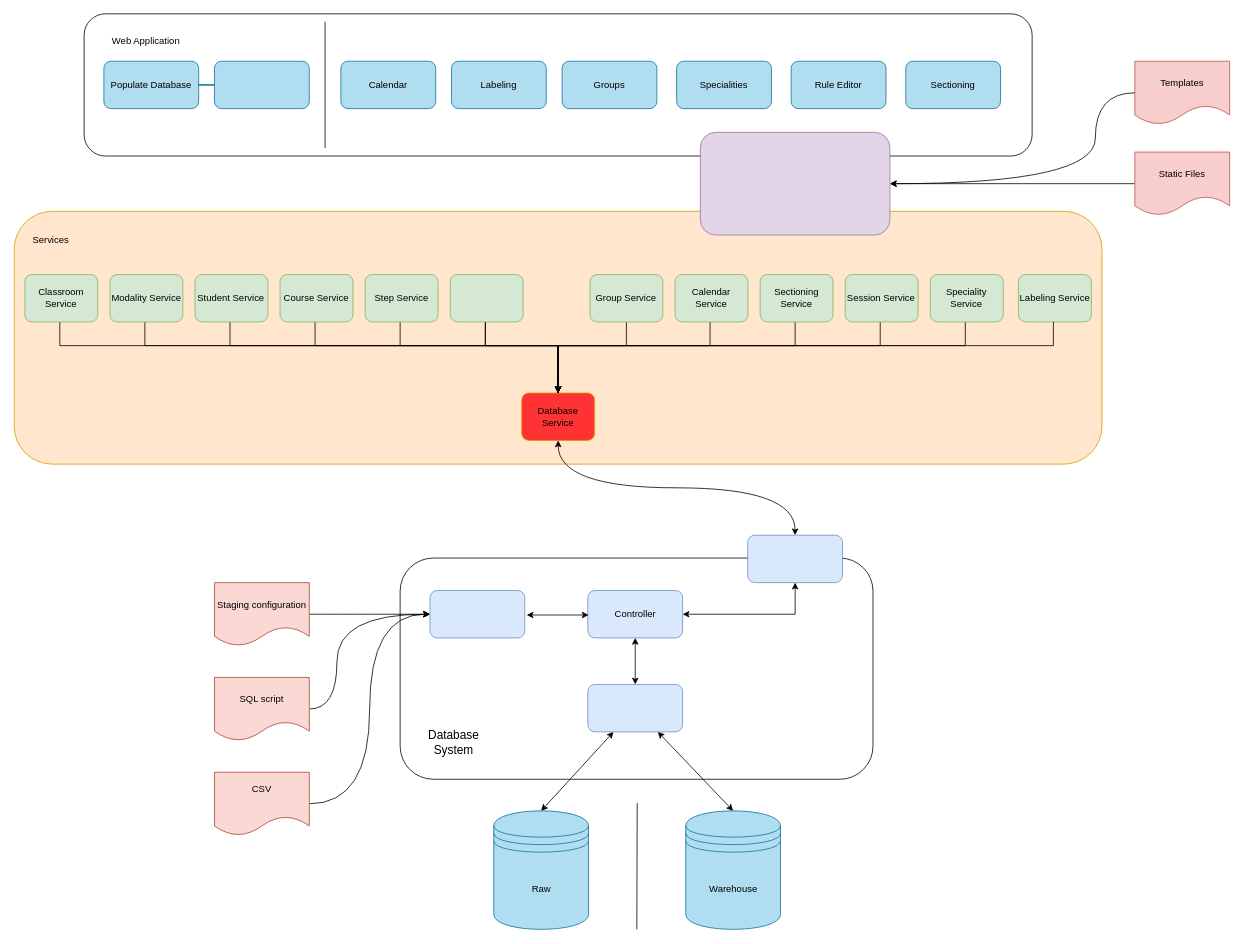
Some shapes in this 1243 by 944 pixel diagram are drawn without their labels. The centre of each missing label's shape, as x and y in pixels:
API Routes: the point at 795,183
Data transformation: the point at 261,84
DB API: the point at 795,558
Lecturer Service: the point at 486,298
PostgreSQL Controller: the point at 635,708
Staging Controller: the point at 477,614
